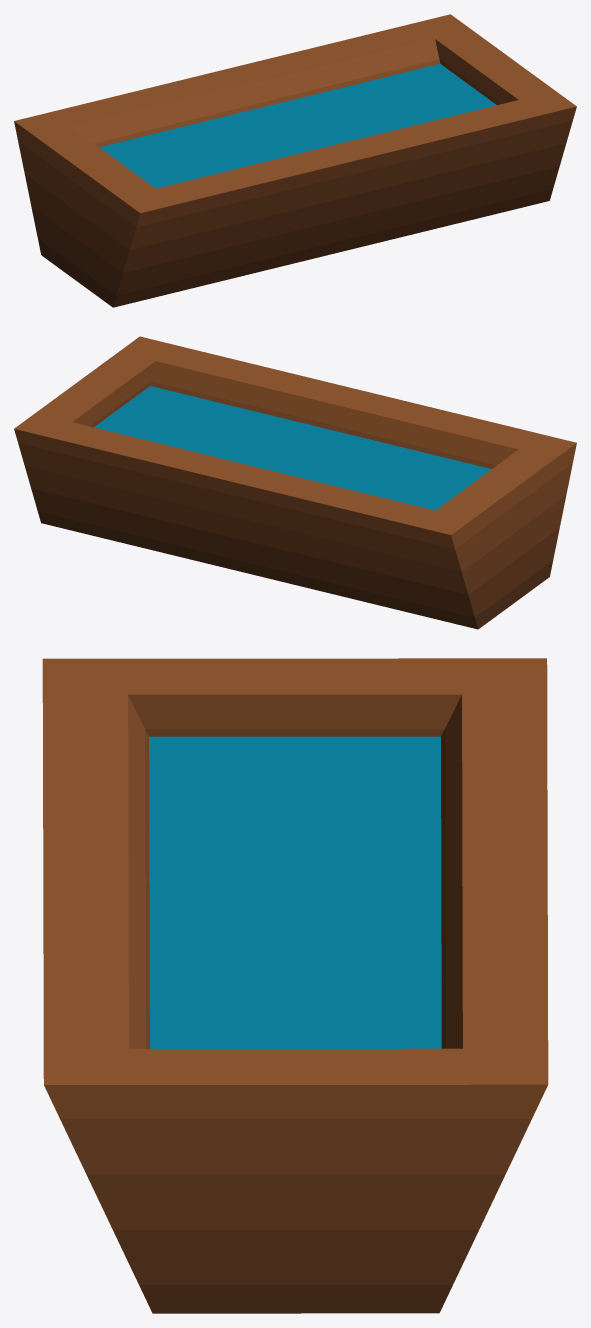
File: drinker.fbx
The picture shows the model from 3 angles, top to bottom: view 1: azimuth 30°, elevation 25°; view 2: azimuth 150°, elevation 25°; view 3: azimuth 270°, elevation 25°; orthographic projection. The views are drawn at different scales.
Parts seen in each view (by area): view 1: Drinker.001; view 2: Drinker.001; view 3: Drinker.001.
Part boxes in pixels (left/top/right/bottom): Drinker.001: left=14, top=14, right=576, bottom=307; Drinker.001: left=14, top=336, right=576, bottom=629; Drinker.001: left=42, top=658, right=548, bottom=1313.
Bounding box in the file's own units: 265 × 66.2 × 133.
